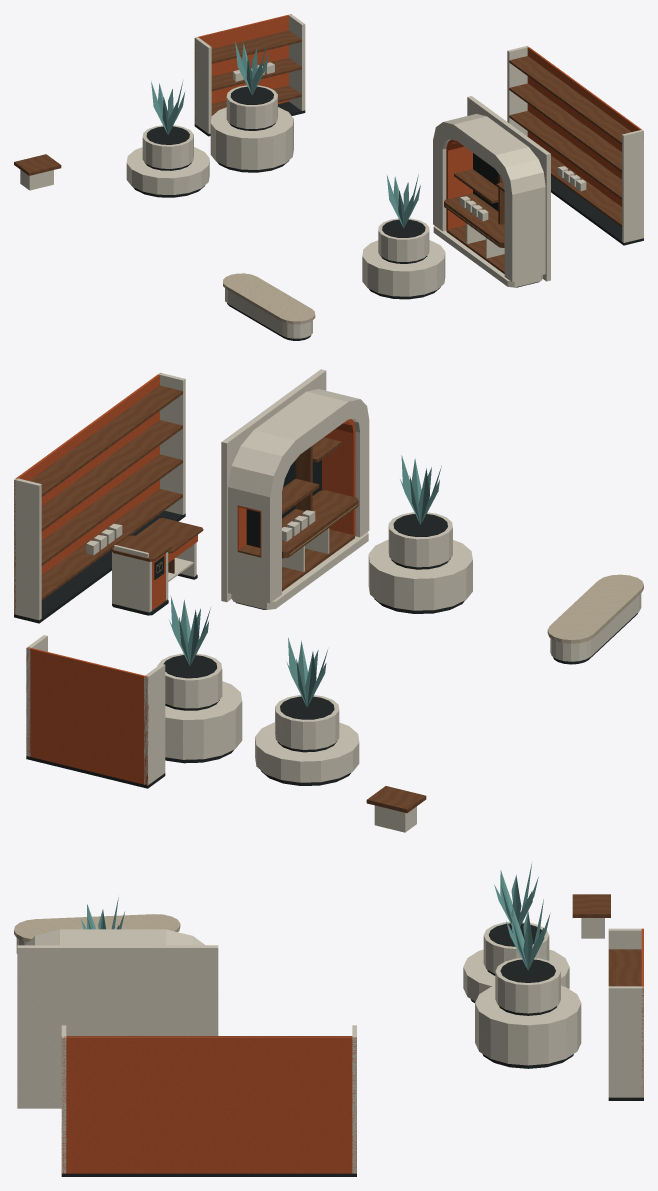
File: SHOP_D09_P72_F080__care_clearance_r002.glb
3 renders of one model, top to bottom at view 1: azimuth 30°, elevation 25°; view 2: azimuth 150°, elevation 25°; view 3: azimuth 270°, elevation 25°, orthographic. The views are drawn at different scales.
Visible parts, largest first — view 1: SHOP_D09_P72_F080__fitout__ivory_enamel, SHOP_D09_P72_F080__fitout__warm_walnut, SHOP_D09_P72_F080__fitout__retail_terracotta_enamel, SHOP_D09_P72_F080__fitout__dark_rubber, SHOP_D09_P72_F080__fitout__quiet_teal, SHOP_D09_P72_F080__fitout__oatmeal_weave; view 2: SHOP_D09_P72_F080__fitout__ivory_enamel, SHOP_D09_P72_F080__fitout__retail_terracotta_enamel, SHOP_D09_P72_F080__fitout__warm_walnut, SHOP_D09_P72_F080__fitout__dark_rubber, SHOP_D09_P72_F080__fitout__quiet_teal, SHOP_D09_P72_F080__fitout__oatmeal_weave; view 3: SHOP_D09_P72_F080__fitout__ivory_enamel, SHOP_D09_P72_F080__fitout__retail_terracotta_enamel, SHOP_D09_P72_F080__fitout__dark_rubber, SHOP_D09_P72_F080__fitout__quiet_teal, SHOP_D09_P72_F080__fitout__warm_walnut, SHOP_D09_P72_F080__fitout__oatmeal_weave.
Part boxes in pixels (<box>): SHOP_D09_P72_F080__fitout__ivory_enamel: <box>20,14,643,338</box>; SHOP_D09_P72_F080__fitout__warm_walnut: <box>14,30,631,273</box>; SHOP_D09_P72_F080__fitout__retail_terracotta_enamel: <box>194,14,643,230</box>; SHOP_D09_P72_F080__fitout__dark_rubber: <box>133,86,643,340</box>; SHOP_D09_P72_F080__fitout__quiet_teal: <box>151,42,420,228</box>; SHOP_D09_P72_F080__fitout__oatmeal_weave: <box>223,273,315,324</box>; SHOP_D09_P72_F080__fitout__ivory_enamel: <box>14,369,641,832</box>; SHOP_D09_P72_F080__fitout__retail_terracotta_enamel: <box>14,373,355,785</box>; SHOP_D09_P72_F080__fitout__warm_walnut: <box>30,385,426,813</box>; SHOP_D09_P72_F080__fitout__dark_rubber: <box>14,459,638,788</box>; SHOP_D09_P72_F080__fitout__quiet_teal: <box>169,455,441,707</box>; SHOP_D09_P72_F080__fitout__oatmeal_weave: <box>547,574,643,643</box>; SHOP_D09_P72_F080__fitout__ivory_enamel: <box>16,918,643,1173</box>; SHOP_D09_P72_F080__fitout__retail_terracotta_enamel: <box>61,928,643,1173</box>; SHOP_D09_P72_F080__fitout__dark_rubber: <box>61,923,643,1176</box>; SHOP_D09_P72_F080__fitout__quiet_teal: <box>80,863,550,970</box>; SHOP_D09_P72_F080__fitout__warm_walnut: <box>66,894,641,1036</box>; SHOP_D09_P72_F080__fitout__oatmeal_weave: <box>14,914,180,941</box>.
Size of the model in its own units: 10.25 by 3 by 10.67.
7 materials, 6 textured.
